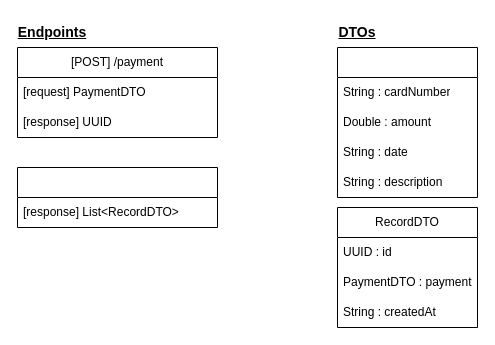
The diagram is 495 pixels wide and 345 high, and some of its shapes have lost their labels. The shapes that lost their labels are listed below. From the top down, each one's box as (x1, y1, x2, y2) in pixels, then its label:
(336, 46, 478, 198): PaymentDTO
(16, 166, 218, 228): [GET] /payment
